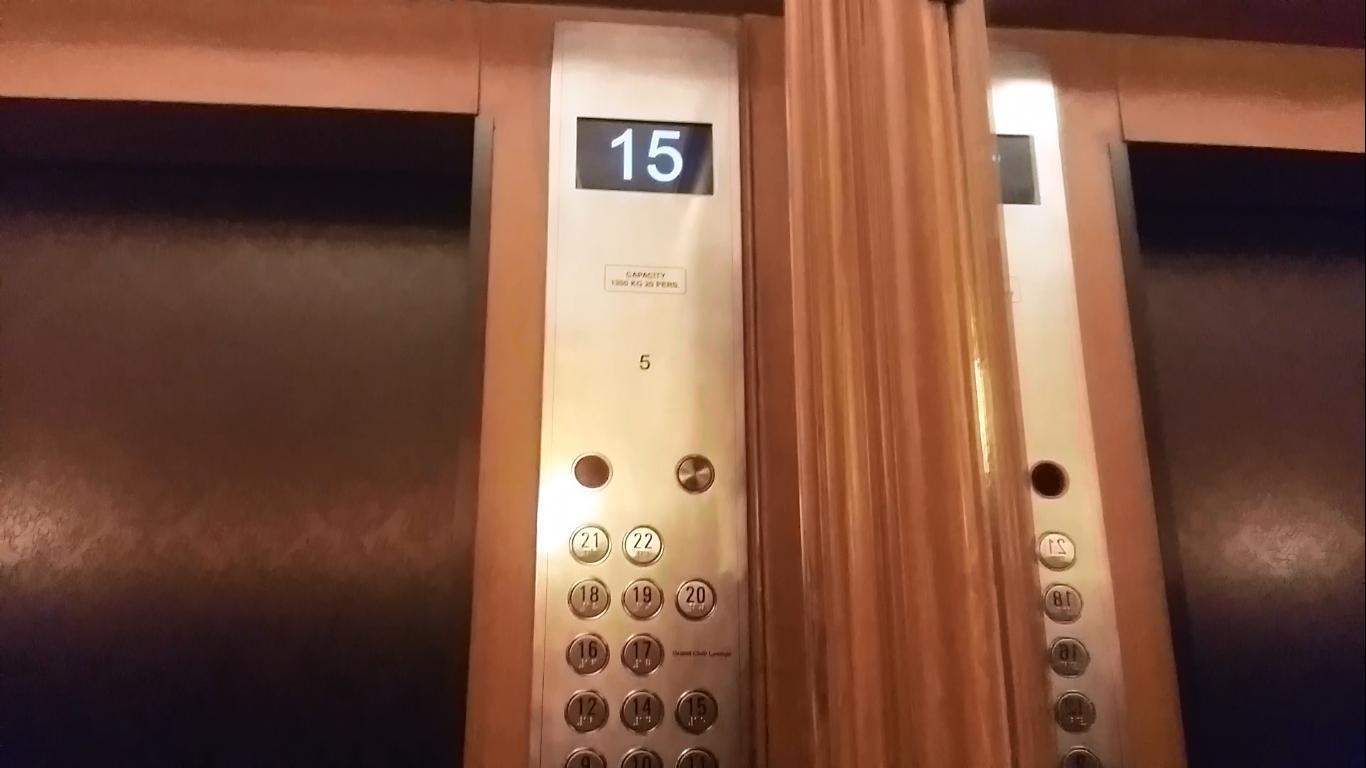12: (562, 687, 610, 735)
14: (617, 687, 665, 735)
15: (672, 688, 719, 735)
16: (562, 631, 611, 678)
17: (618, 631, 664, 677)
18: (565, 575, 612, 620)
19: (619, 577, 666, 621)
20: (673, 577, 716, 622)
21: (569, 523, 611, 566)
22: (622, 523, 663, 567)
empty: (673, 451, 715, 496), (1027, 459, 1070, 499), (572, 453, 613, 489)
led: (575, 115, 717, 197)
unknown: (1047, 636, 1092, 680), (1054, 689, 1095, 735), (1034, 529, 1077, 572), (1042, 582, 1083, 624)
